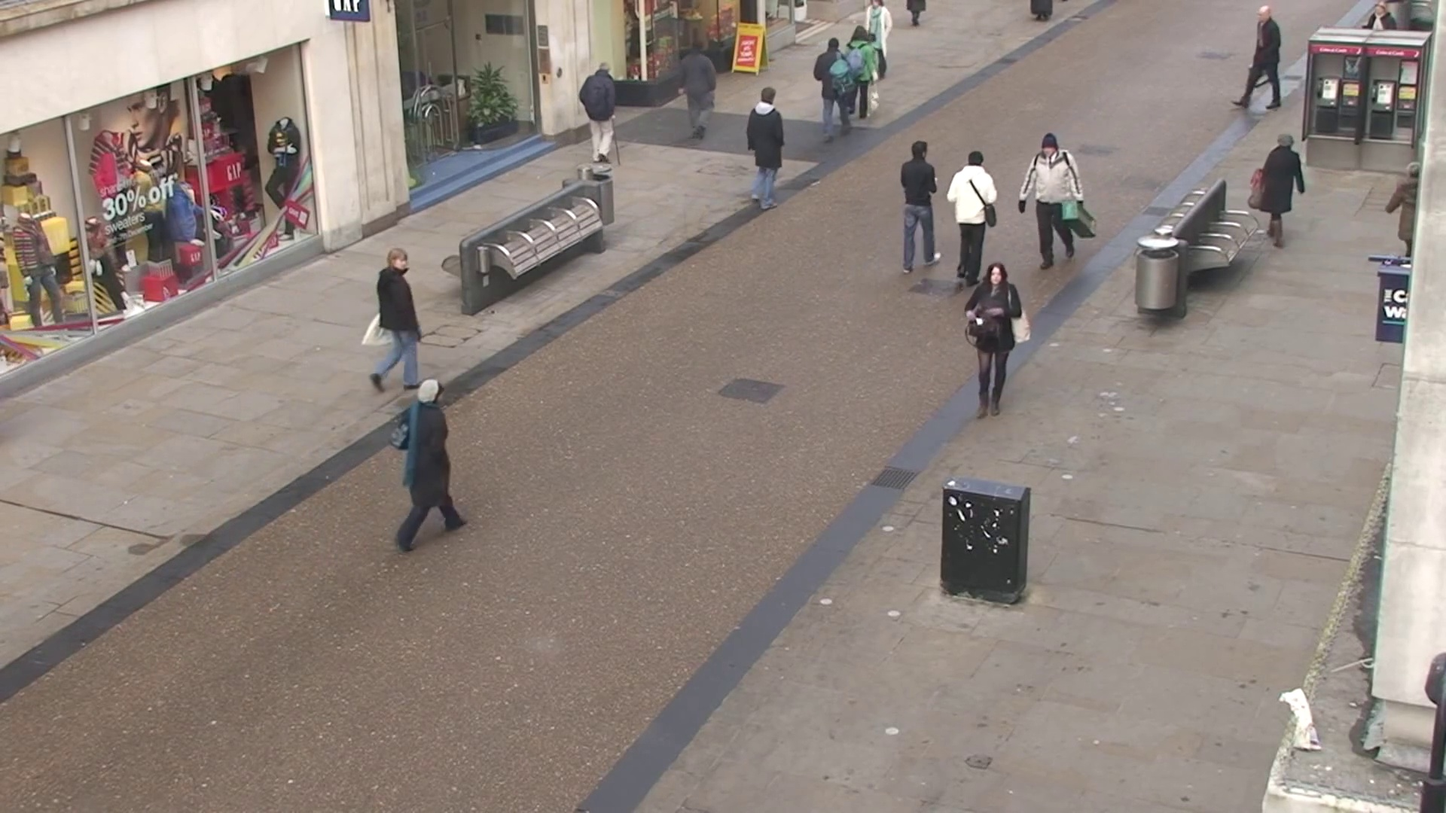person: (392, 379, 467, 553), (965, 263, 1027, 417), (1017, 131, 1086, 269), (368, 248, 424, 393), (944, 149, 998, 291), (1250, 134, 1308, 249), (898, 139, 941, 273), (803, 38, 856, 142), (745, 88, 785, 208), (1240, 7, 1285, 113), (264, 117, 304, 232), (578, 62, 616, 166), (844, 15, 881, 120), (678, 51, 718, 144), (854, 0, 902, 70)
